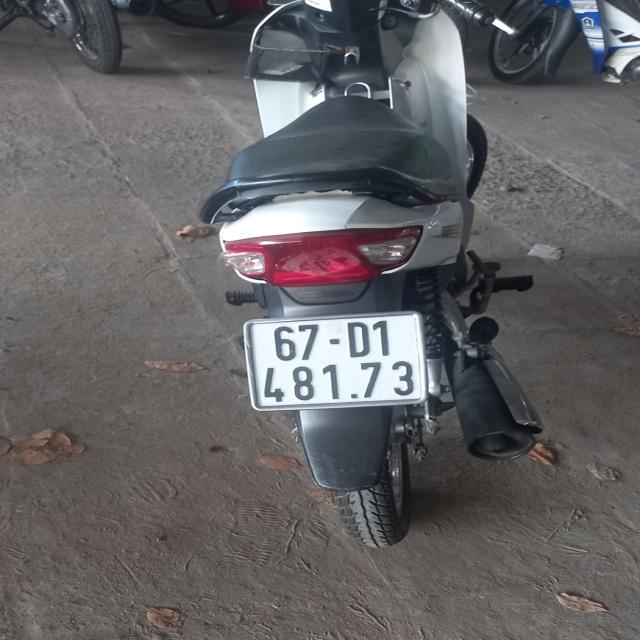1: (321, 363, 340, 401), (372, 320, 390, 355)
3: (392, 361, 414, 396)
4: (262, 368, 284, 402)
6: (274, 325, 296, 361)
7: (299, 324, 319, 360), (361, 362, 382, 396)
8: (292, 365, 314, 400)
D: (346, 322, 370, 357)
